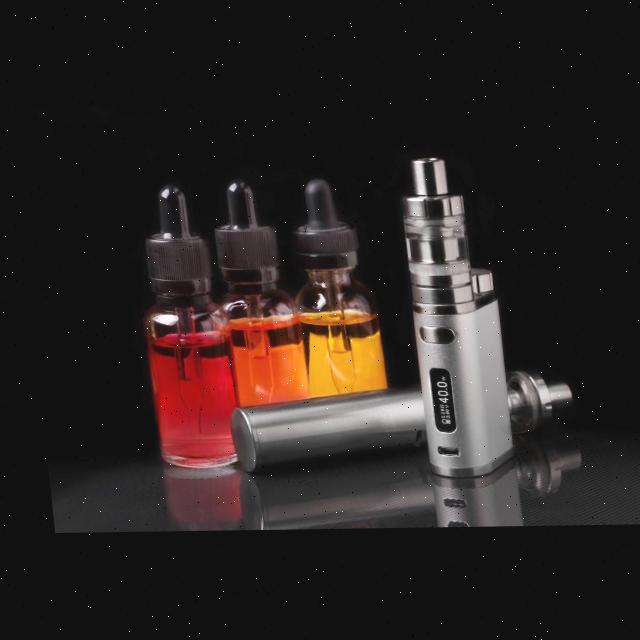vape: (392, 156, 507, 483), (218, 370, 570, 474)
